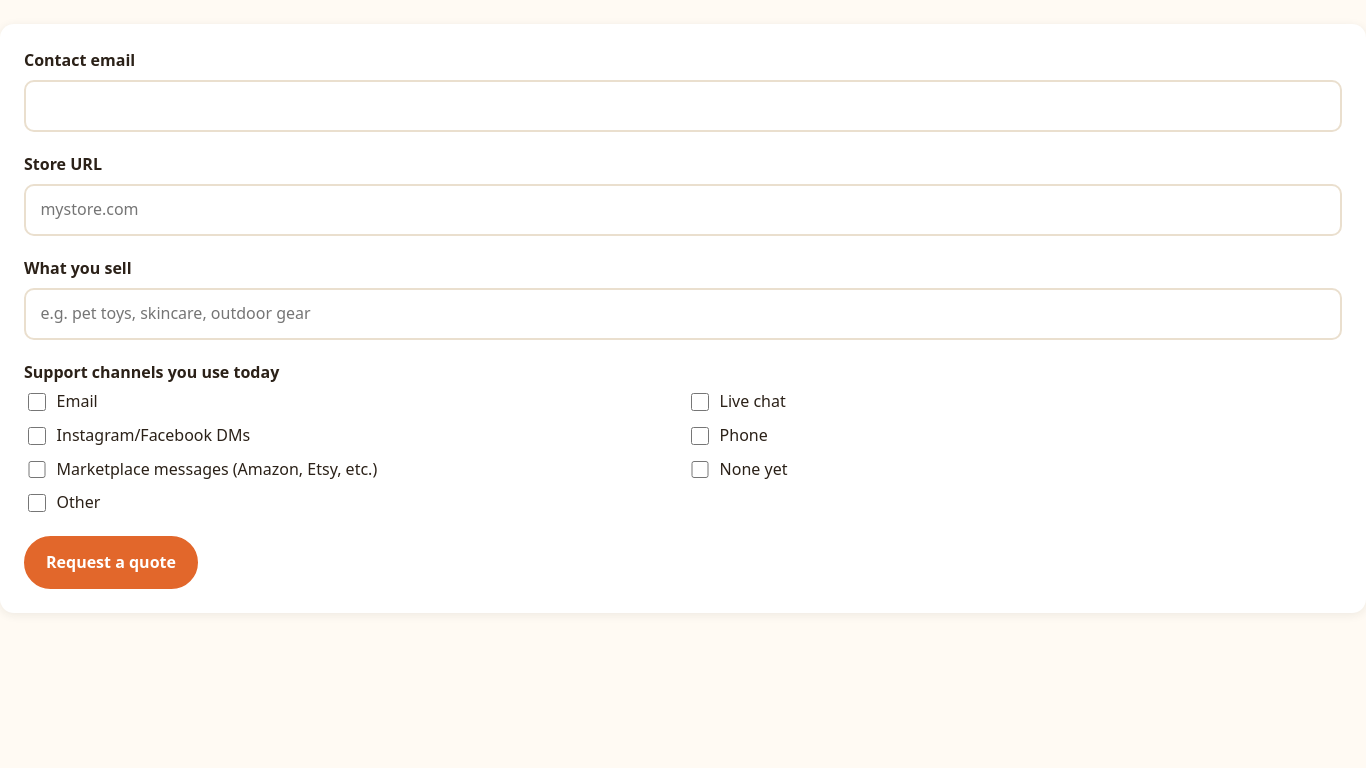
Scenario: QuoteForm › shows the other-channel field only when Other is ticked
Expected: the field labelled "Which other channel?" is not shown
What coordinates should you click on to do the following:
click the checkbox labelled "Other"
I would click on:
 (37, 503)
Its box is [28, 494, 46, 512].
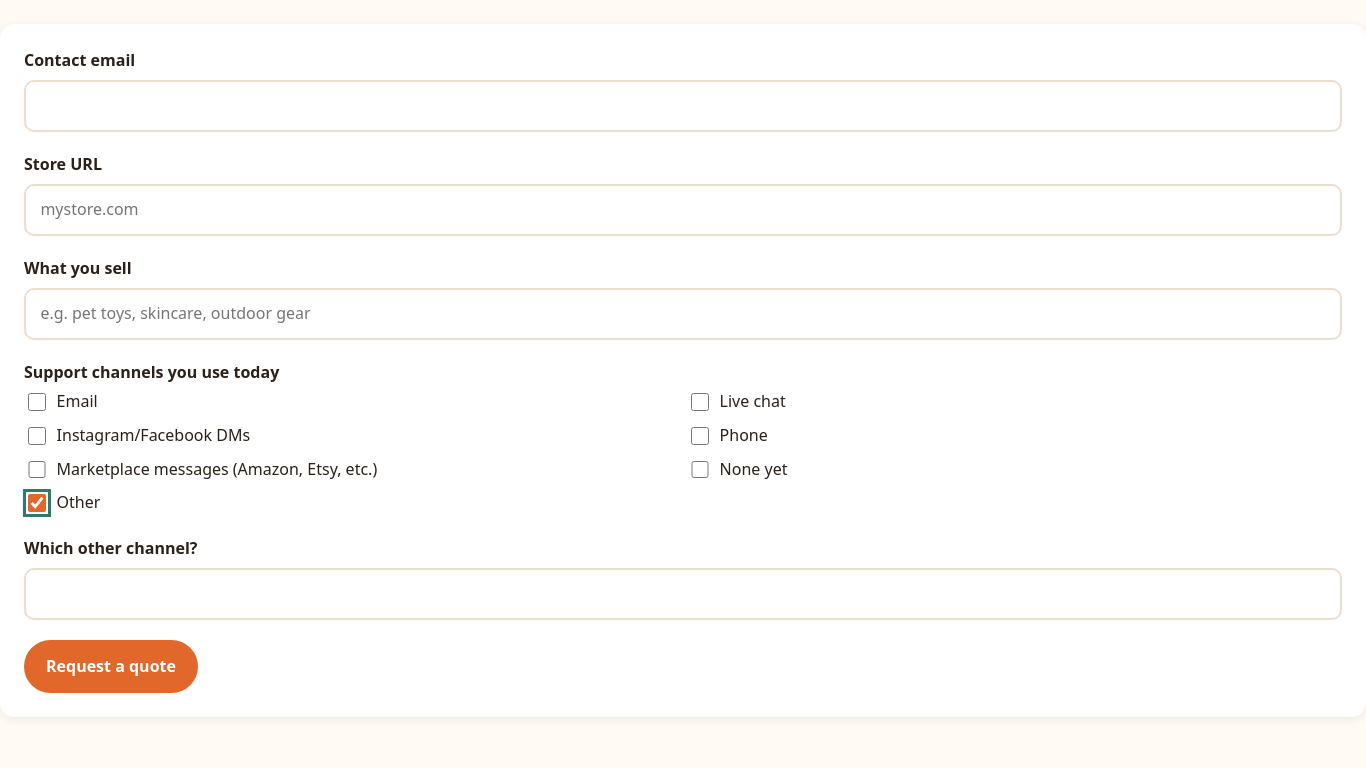
Now the field labelled "Which other channel?" is shown, box [24, 568, 1342, 620]
